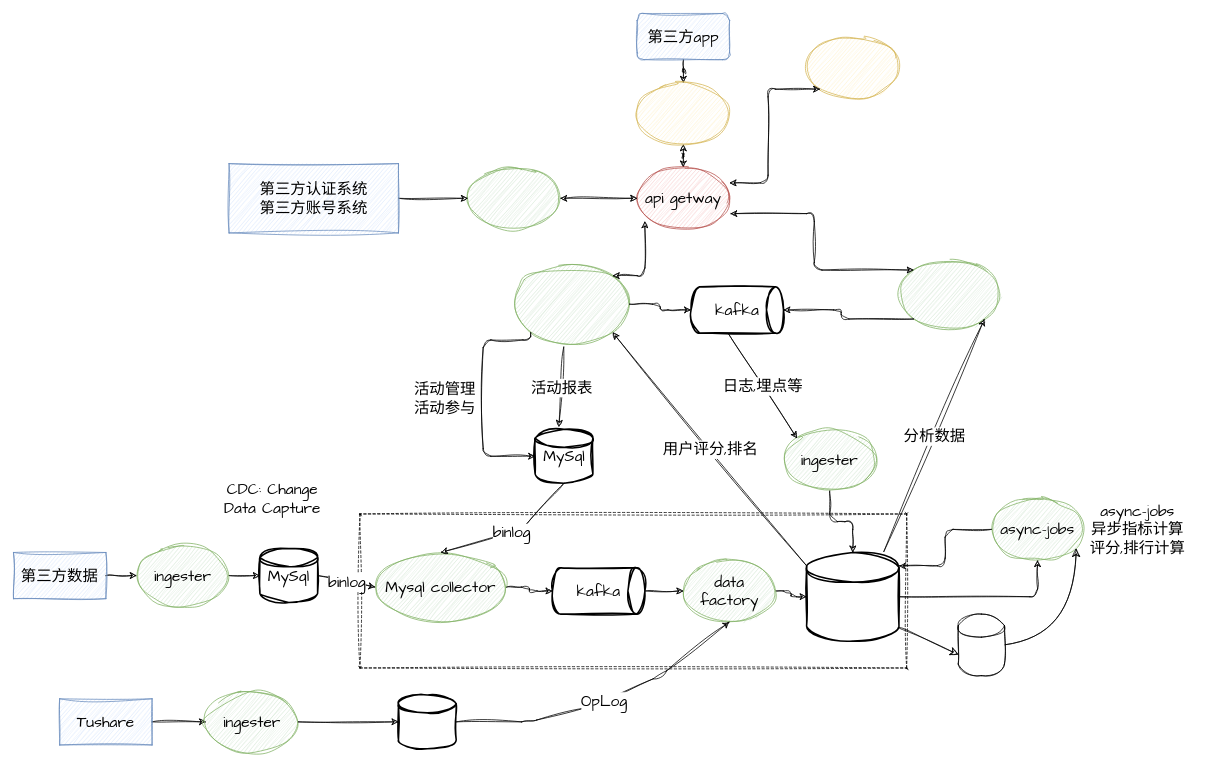
Image size: 1213x766. Some labels were removed from this diagram. The shapes that lost their labels are listed below. From the top down, each one's centre as x and y in pixels, then its label:
the point at 852,67: 运营管理中心
the point at 683,113: 前端
the point at 513,198: iam-api
the point at 571,304: prediction-api
the point at 948,294: analysis-api
the point at 852,596: Data Vault (MySql)
the point at 980,644: Redis
the point at 427,721: Mongo
